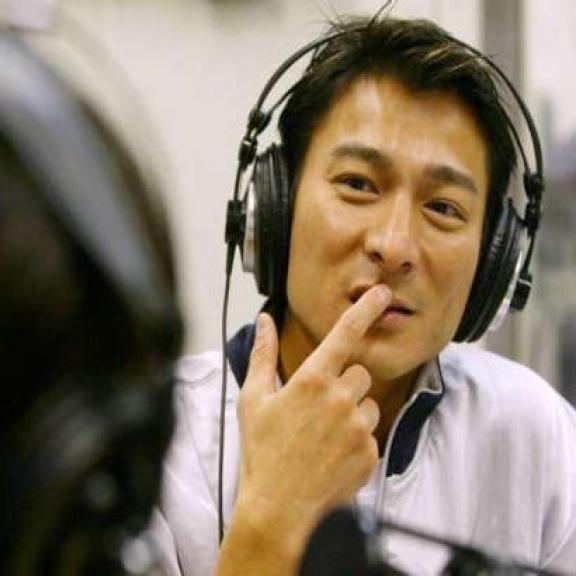face: (281, 78, 488, 380)
